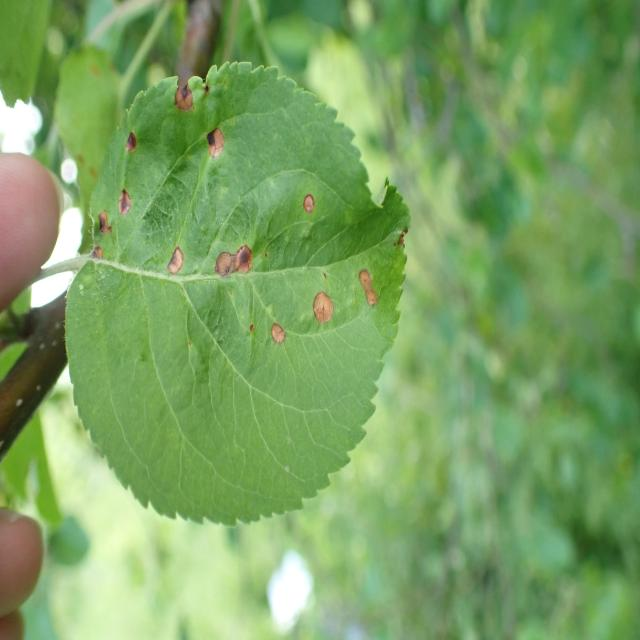frog-eye-leaf-spot: (63, 59, 413, 527)
